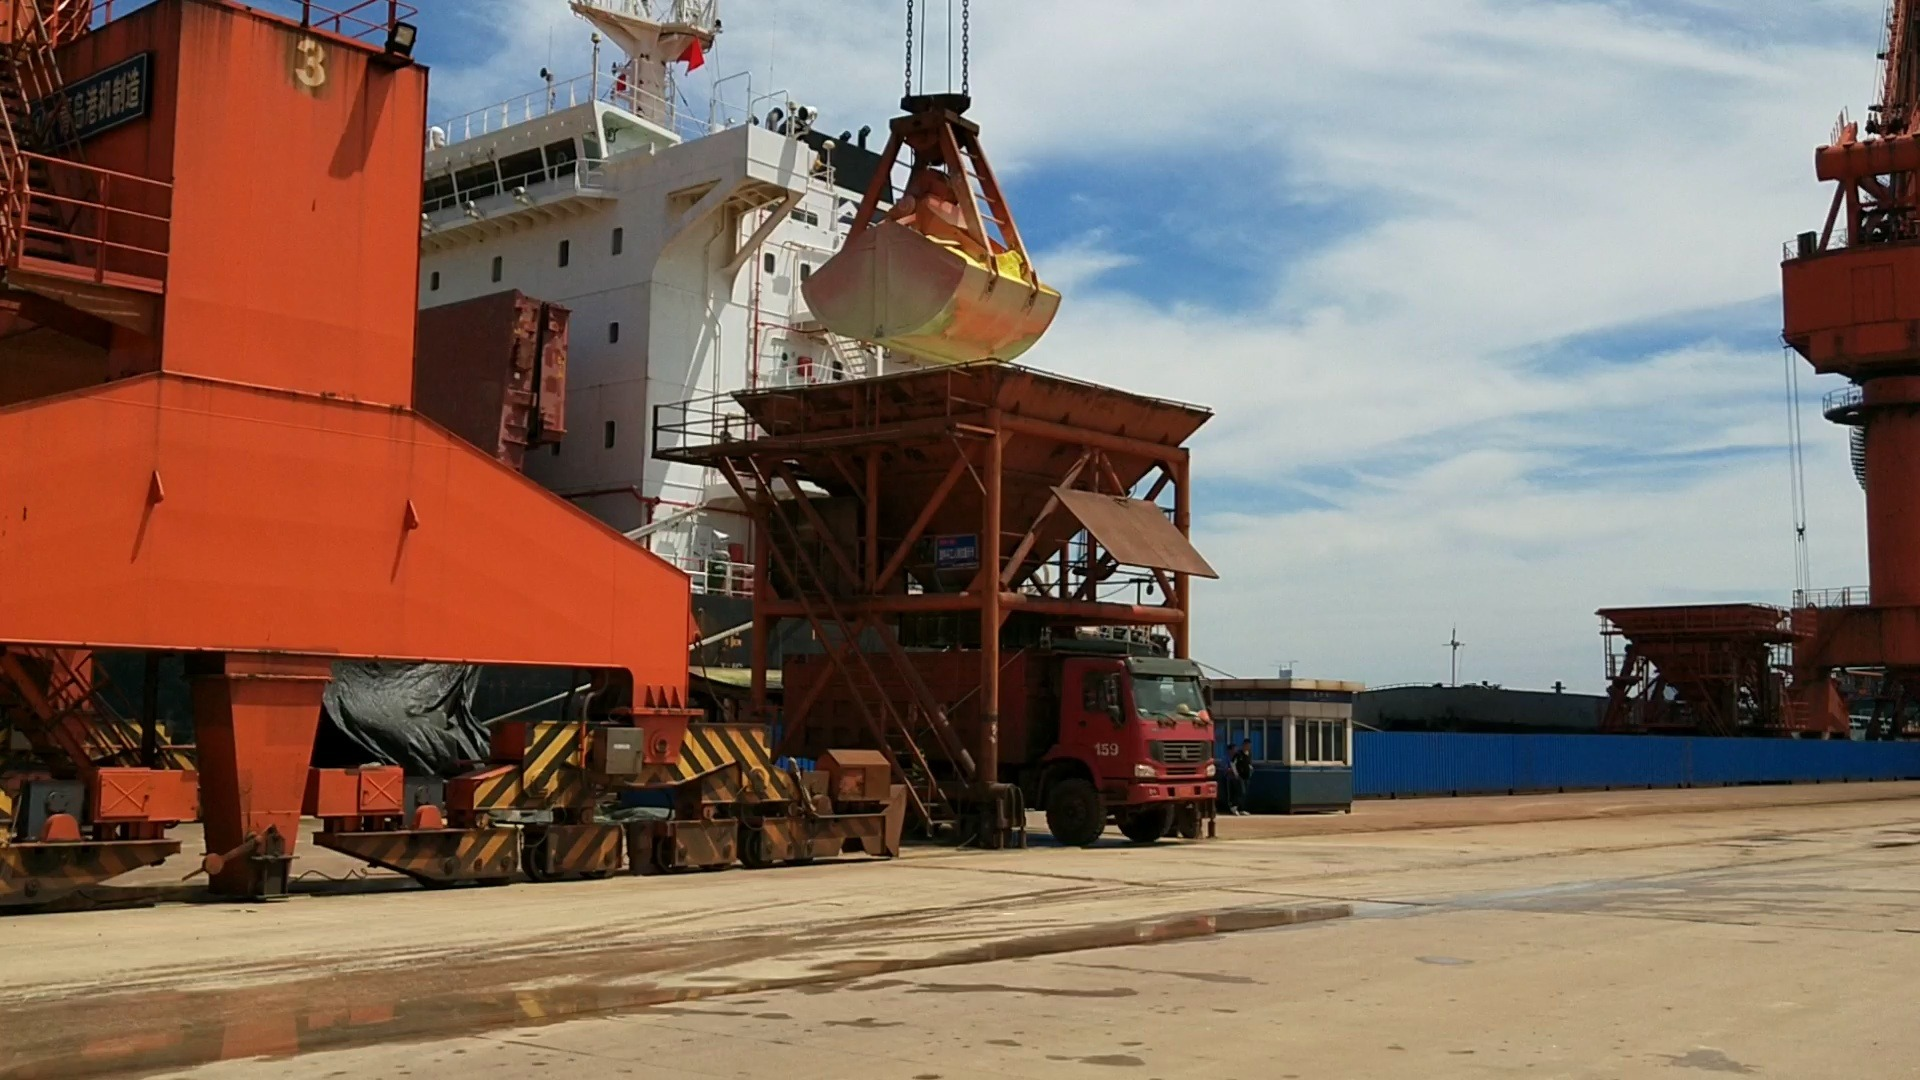grab: (791, 65, 1073, 376)
truck: (1002, 629, 1224, 851)
